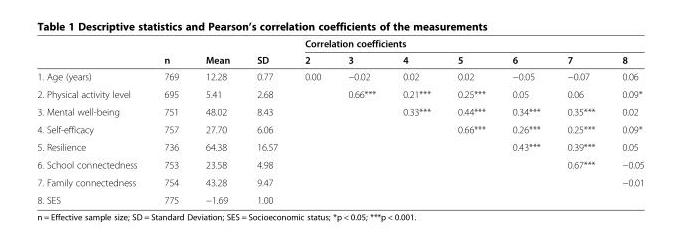table: (36, 37, 643, 205)
table column: (36, 37, 150, 205), (333, 37, 388, 205), (388, 37, 443, 205), (443, 37, 498, 205), (498, 37, 553, 205), (553, 37, 607, 205), (191, 37, 242, 205), (242, 37, 290, 205), (290, 37, 333, 205), (150, 37, 191, 205), (607, 37, 643, 205)
table column header: (36, 37, 643, 67)
table row: (36, 67, 643, 85), (36, 102, 643, 120), (36, 137, 643, 155), (36, 155, 643, 173), (36, 85, 643, 102), (36, 120, 643, 137), (36, 173, 643, 190), (36, 51, 643, 67), (36, 190, 643, 205), (36, 37, 643, 51)
table spanning cell: (290, 37, 643, 51), (191, 37, 242, 67), (242, 37, 290, 67), (150, 37, 191, 67)
